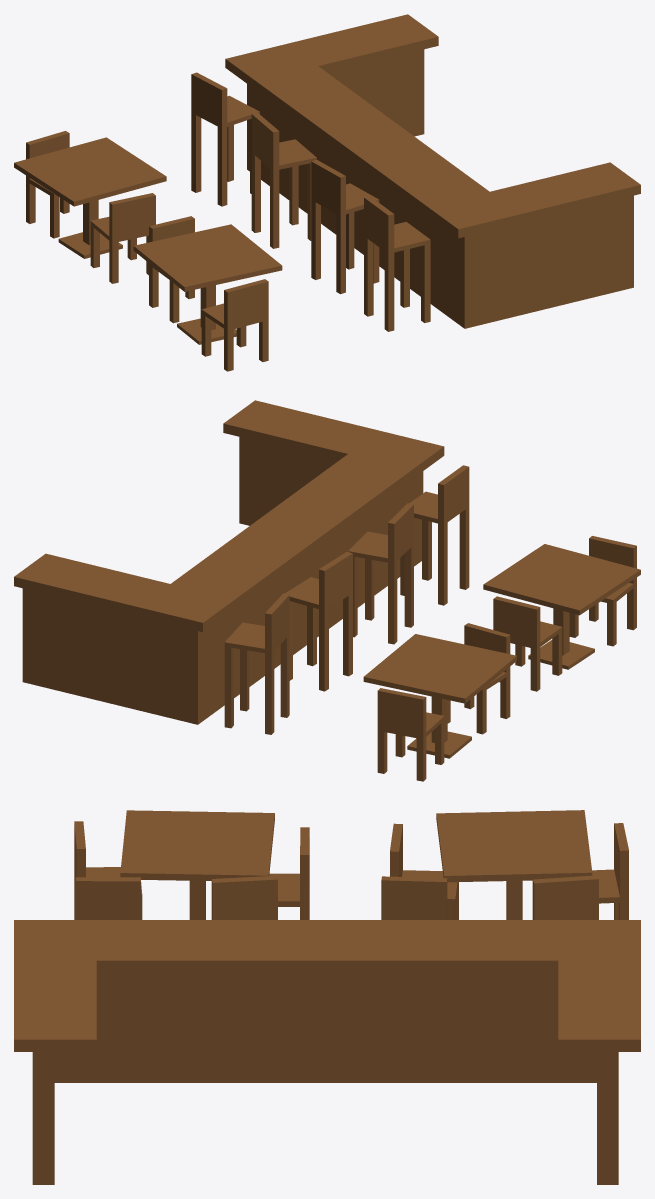
Rendered from inside2.fbx.
3 renders of one model, top to bottom at view 1: azimuth 30°, elevation 25°; view 2: azimuth 150°, elevation 25°; view 3: azimuth 270°, elevation 25°, orthographic. The views are drawn at different scales.
Parts seen in each view (by area): view 1: pCube33, inside3; view 2: pCube33, inside3; view 3: pCube33, inside3.
Part boxes in pixels (x1=…): pCube33: x1=225, y1=14, x2=640, y2=328; inside3: x1=14, y1=72, x2=430, y2=371; pCube33: x1=14, y1=400, x2=444, y2=724; inside3: x1=224, y1=465, x2=640, y2=781; pCube33: x1=14, y1=920, x2=640, y2=1184; inside3: x1=74, y1=810, x2=628, y2=919.
Bounding box in the file's own units: 31.5 × 8.45 × 30.62.
